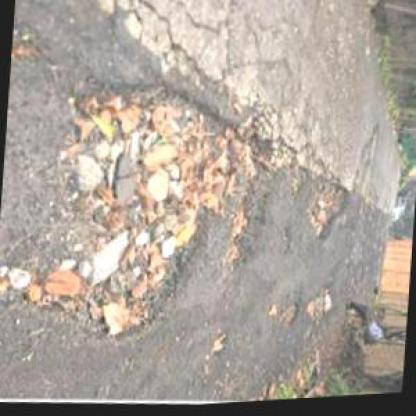pothole: (0, 61, 284, 360), (305, 176, 350, 250), (308, 286, 338, 330), (282, 305, 302, 331)
